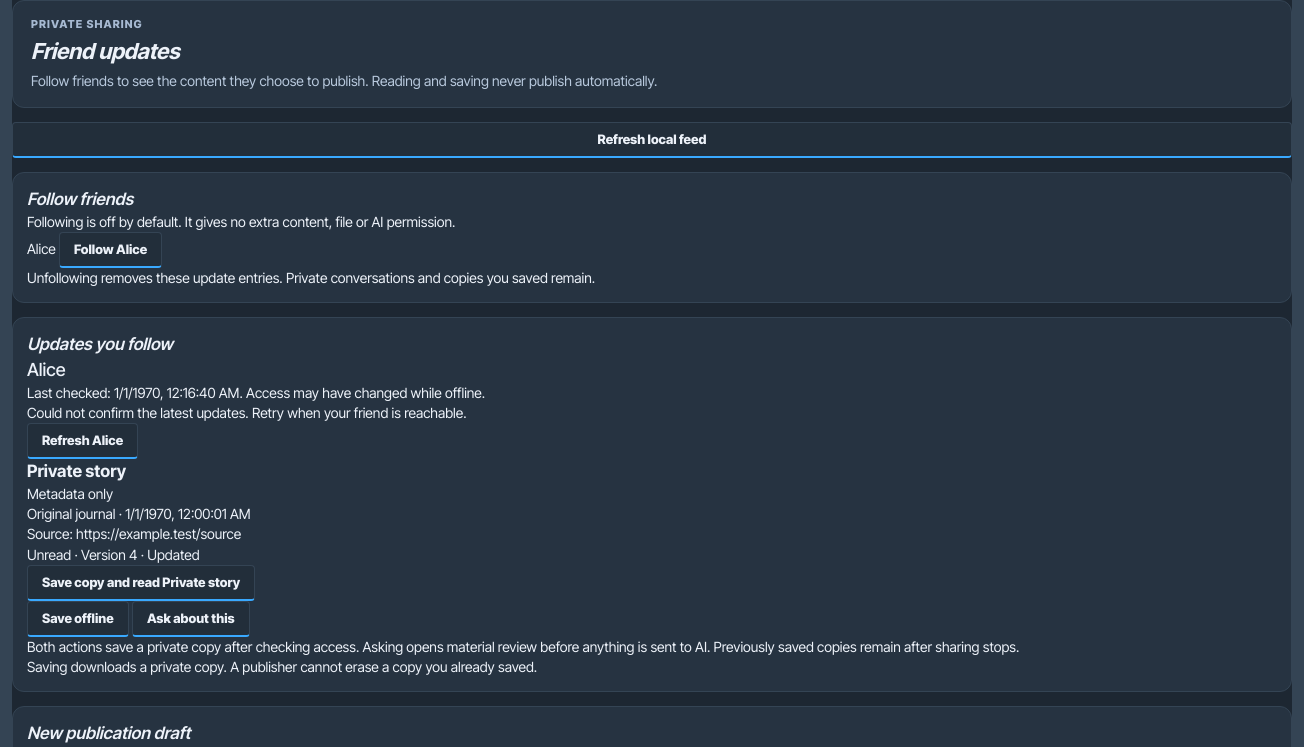
Test: shows source, last check and unread revision, and never treats a rejected download as read
Expected: the heading "Private story" is shown, [27, 461, 126, 481]
Expected: the text "Unread · Version 4 · Updated" is shown, [27, 546, 200, 563]
Click the button "Save copy and read Private story": x=141, y=583 [27, 565, 255, 601]
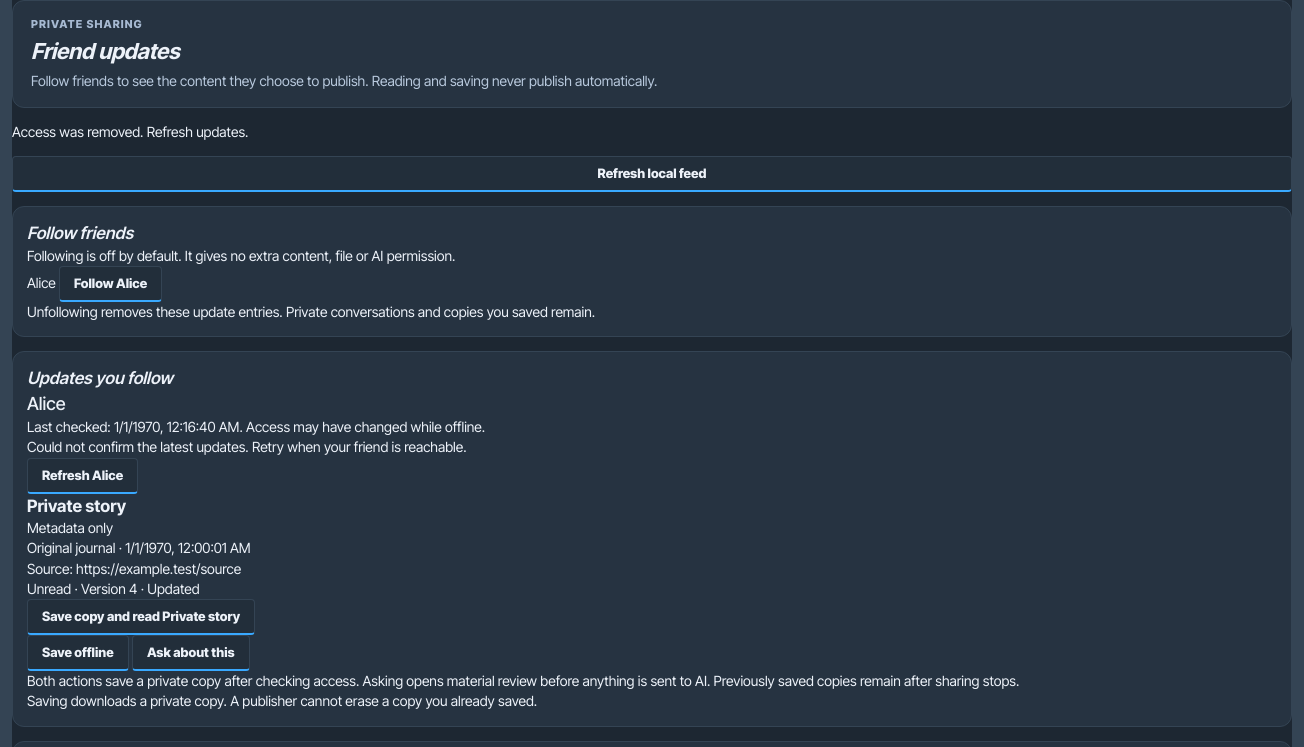
Now the message "Access was removed. Refresh updates." is shown, box [12, 123, 248, 140]
